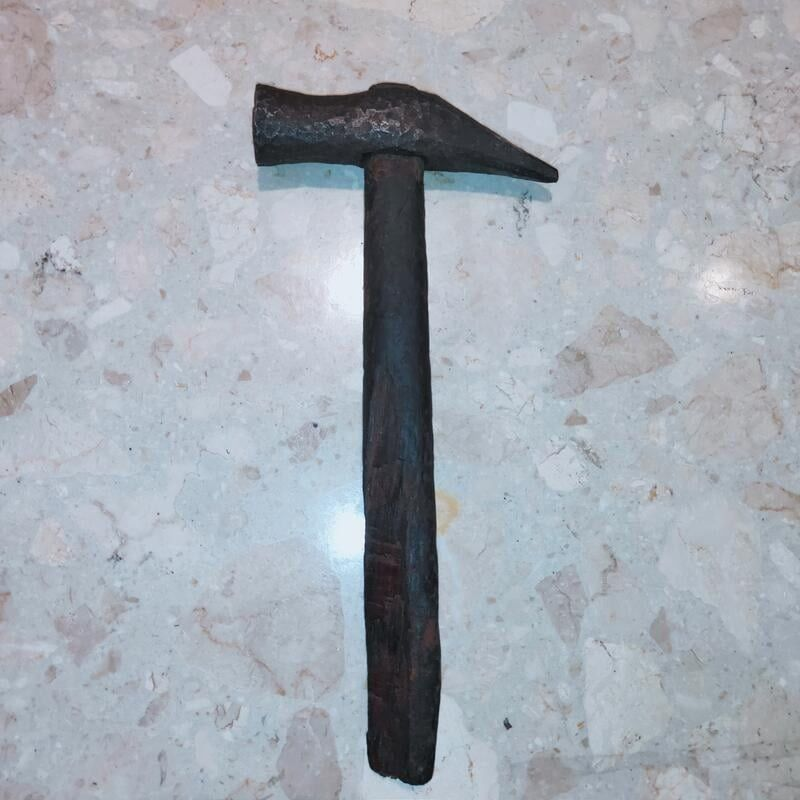hammer: (229, 59, 572, 800)
